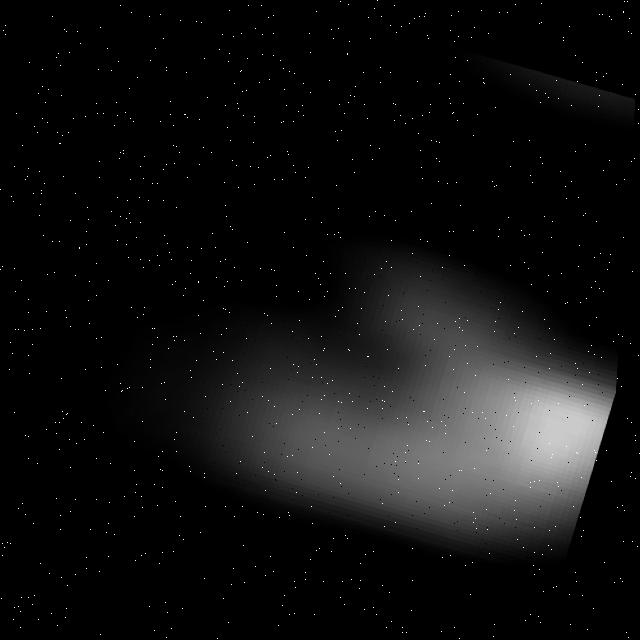person: (93, 180, 632, 579), (421, 37, 640, 155)
